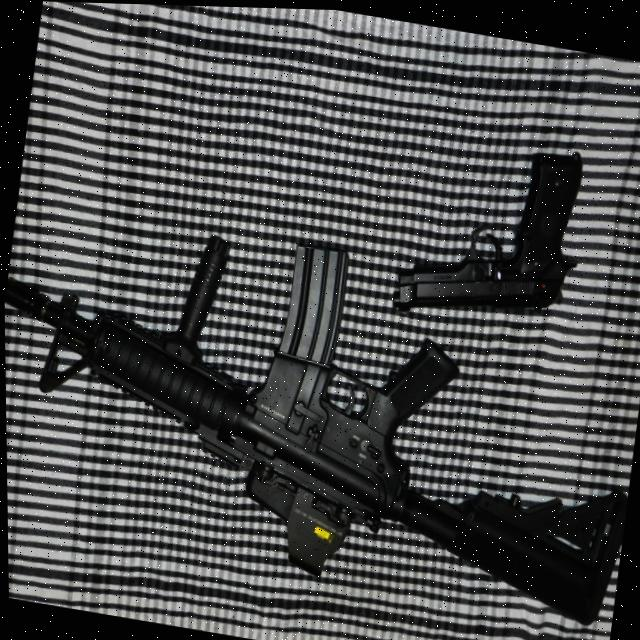firearm: (2, 190, 640, 629)
pistol: (389, 127, 589, 335)
